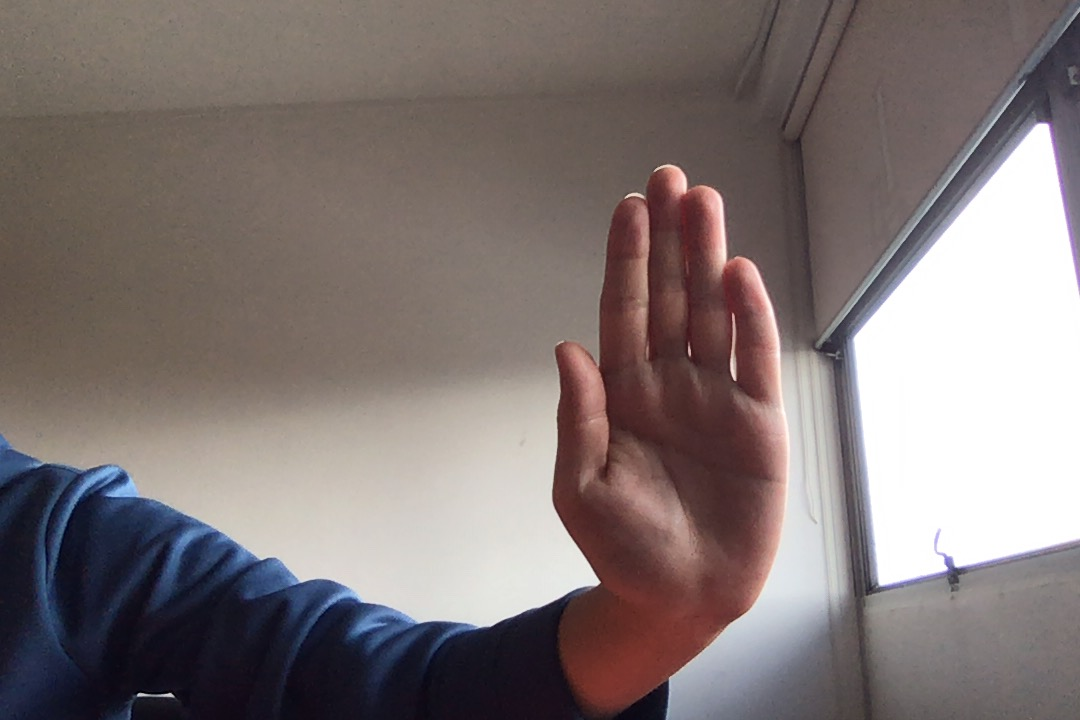palmhand: (542, 160, 796, 630)
